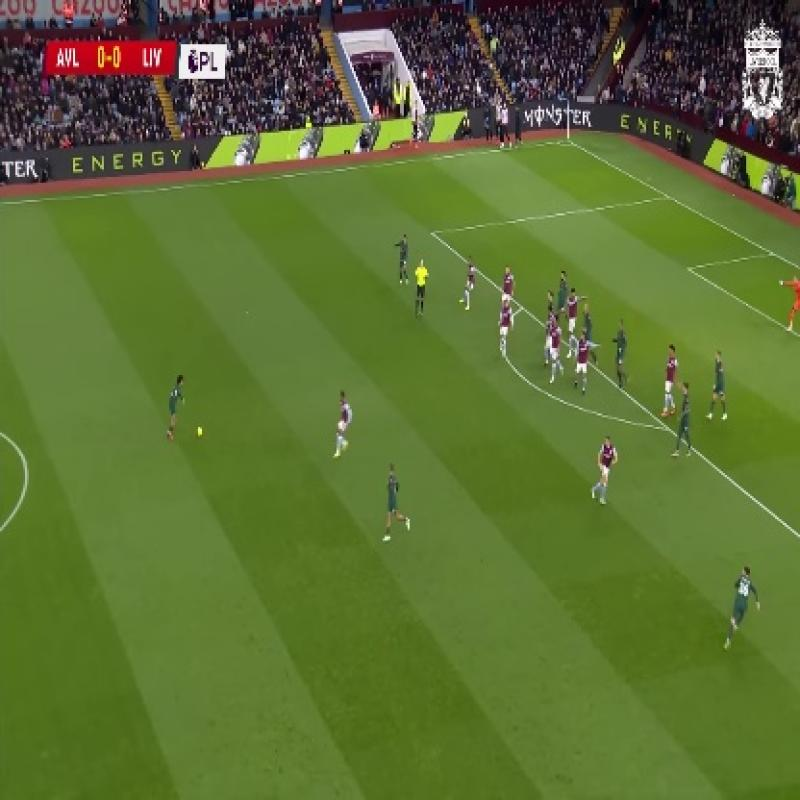1: (554, 130, 575, 148)
10: (511, 294, 529, 318)
11: (656, 415, 674, 436)
2: (660, 186, 678, 206)
3: (763, 240, 781, 264)
7: (679, 256, 698, 279)
9: (422, 219, 440, 243)
c: (8, 448, 46, 487)
